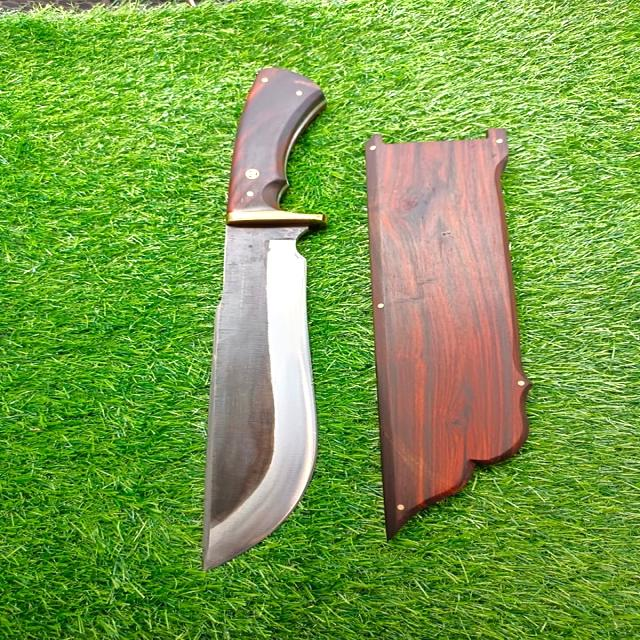eto: (194, 56, 352, 580)
